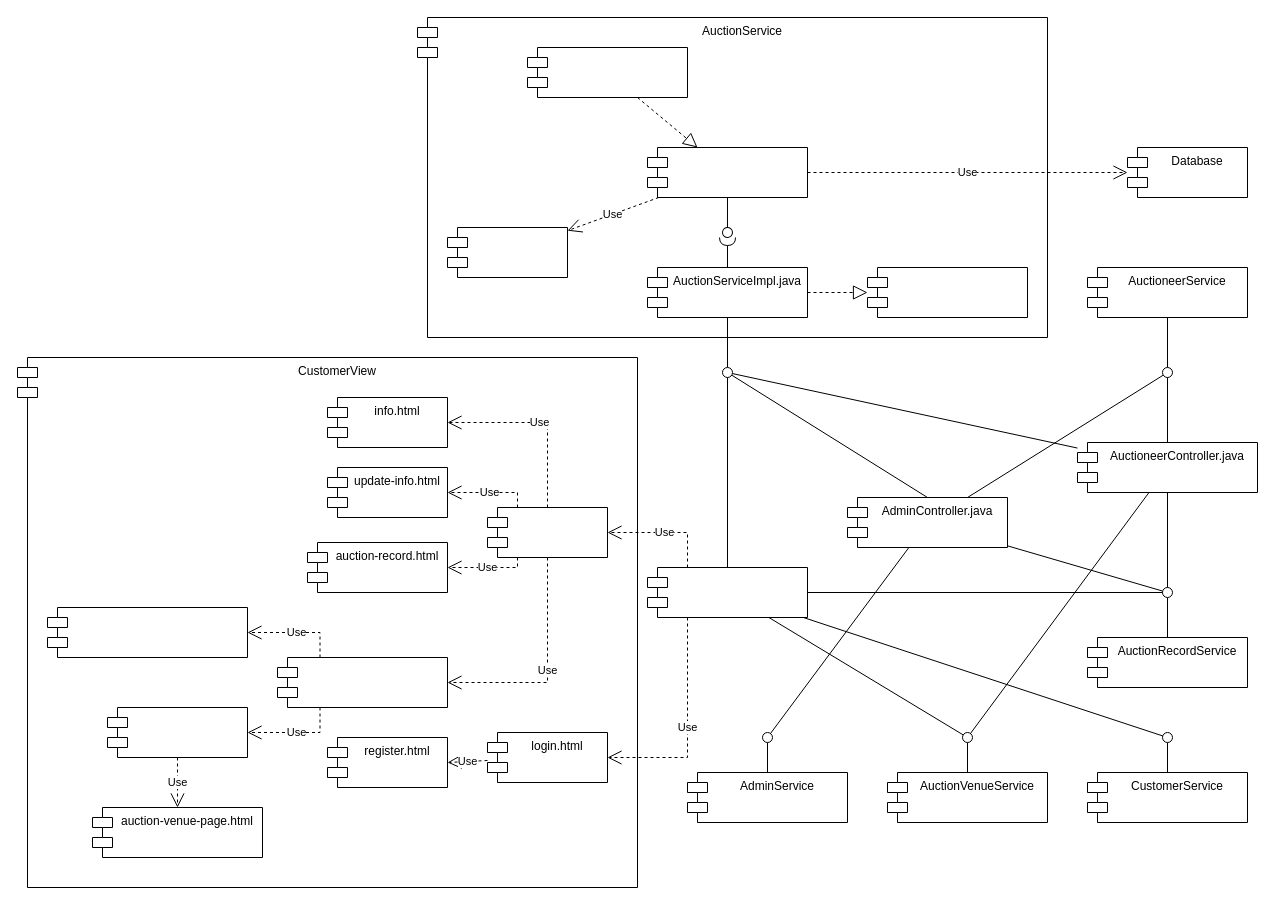
Image size: 1275x905. Some labels were removed from this diagram. The shapes that lost their labels are listed below. From the top down, each one's centre as x and y in pixels, then its label:
the point at 607,72: AuctionMapper.xml
the point at 727,172: AuctionMapper.java
the point at 507,252: Auction.java
the point at 947,292: AuctionService.java
the point at 547,532: center.html
the point at 727,592: CustomerController.java
the point at 147,632: search-auction-venue-list.html
the point at 362,682: auction-venue-list.html
the point at 177,732: auction-venue.html
